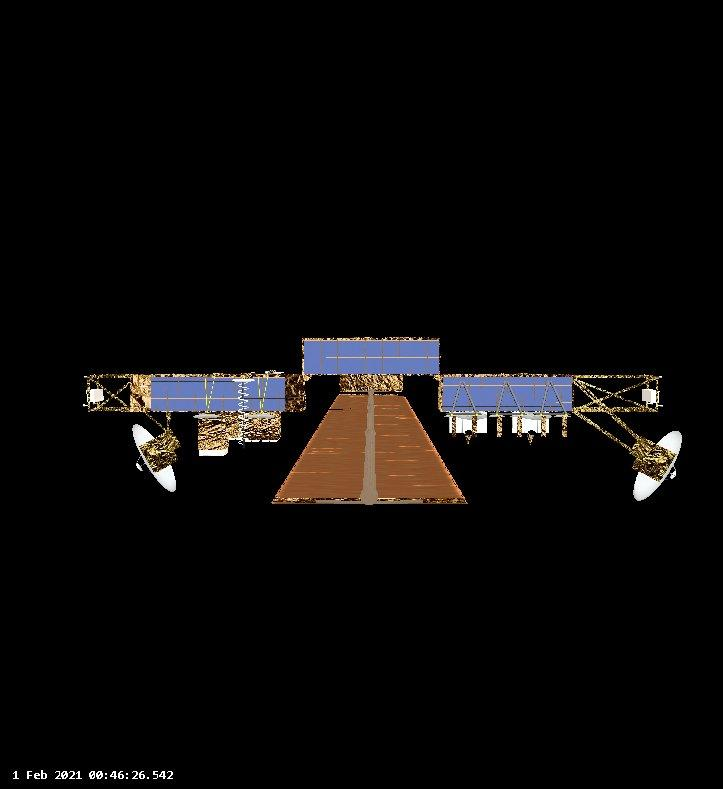antenna: (630, 427, 686, 505), (127, 418, 180, 496)
body: (79, 362, 312, 458), (429, 364, 584, 451), (298, 329, 448, 397)
solar: (268, 387, 473, 512)
